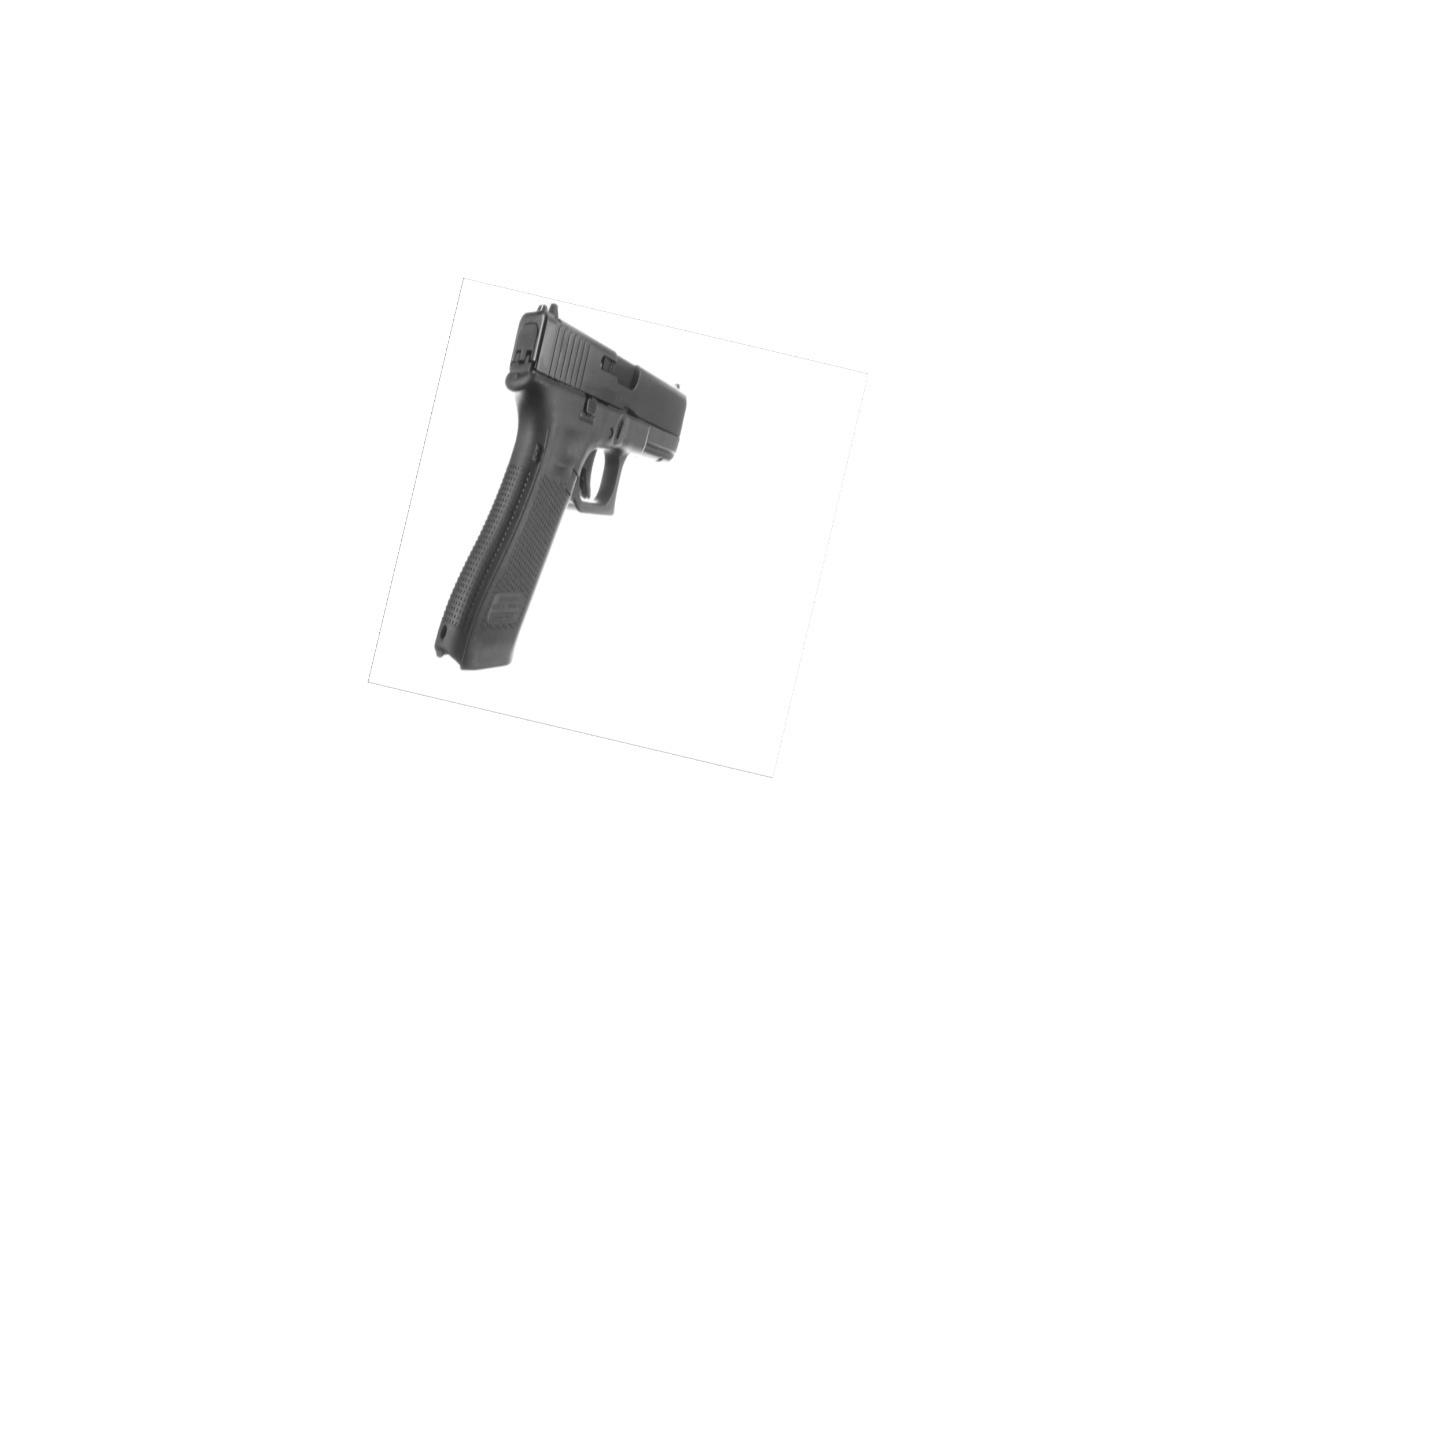gun: (420, 298, 708, 676)
